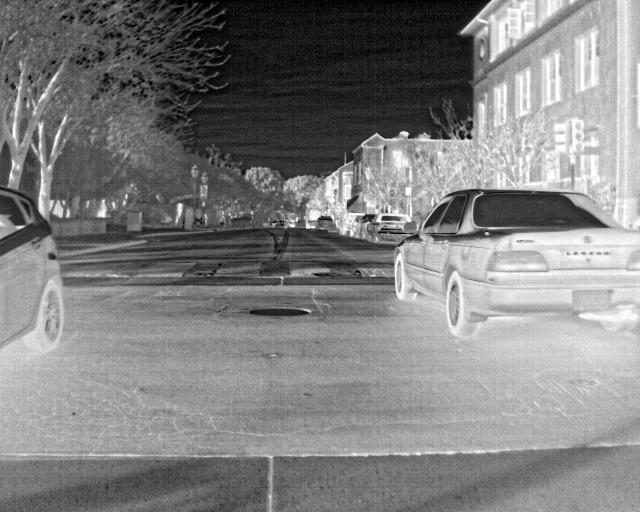car: (392, 185, 639, 342), (0, 185, 65, 368), (362, 214, 409, 242), (347, 213, 373, 236), (314, 216, 336, 232)
